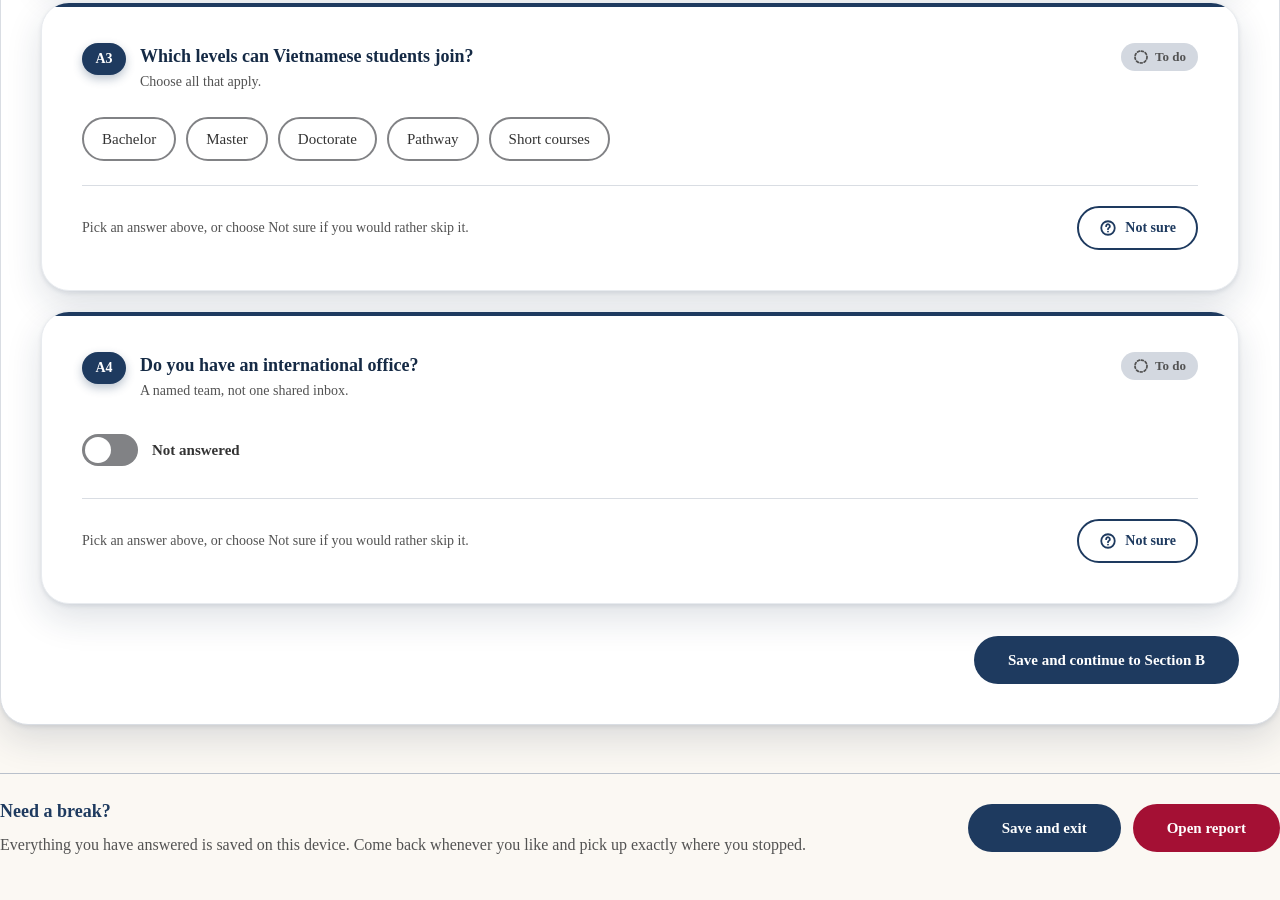
IntakePage saving › Save now writes at once
(page scrolled)
What coordinates should you click on to do the following:
click the switch
I would click on:
 (110, 450)
Its box is [82, 434, 138, 466].
(page scrolled)
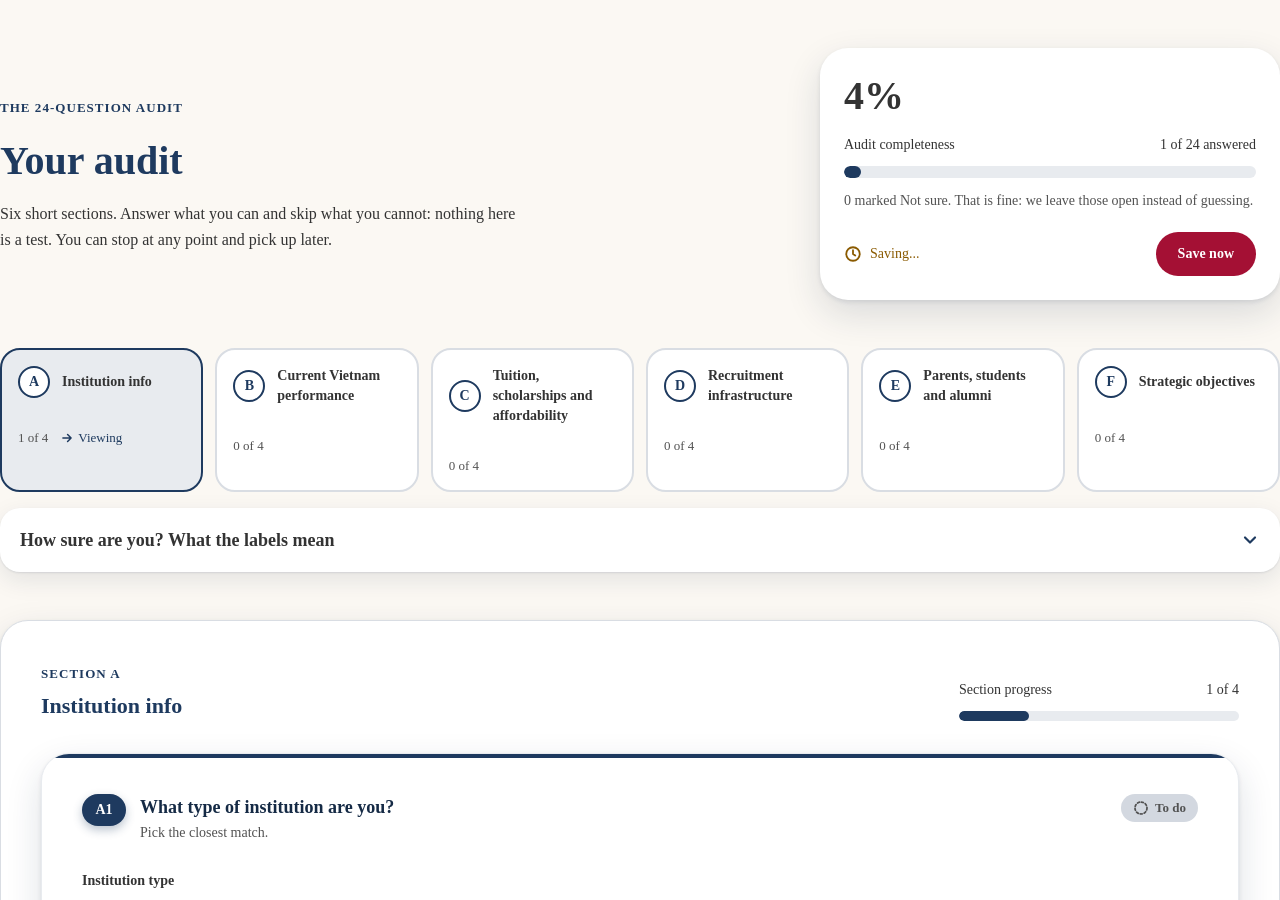
What coordinates should you click on to do the following:
click the button "Save now"
I would click on:
 (1206, 254)
Its box is [1156, 232, 1256, 276].
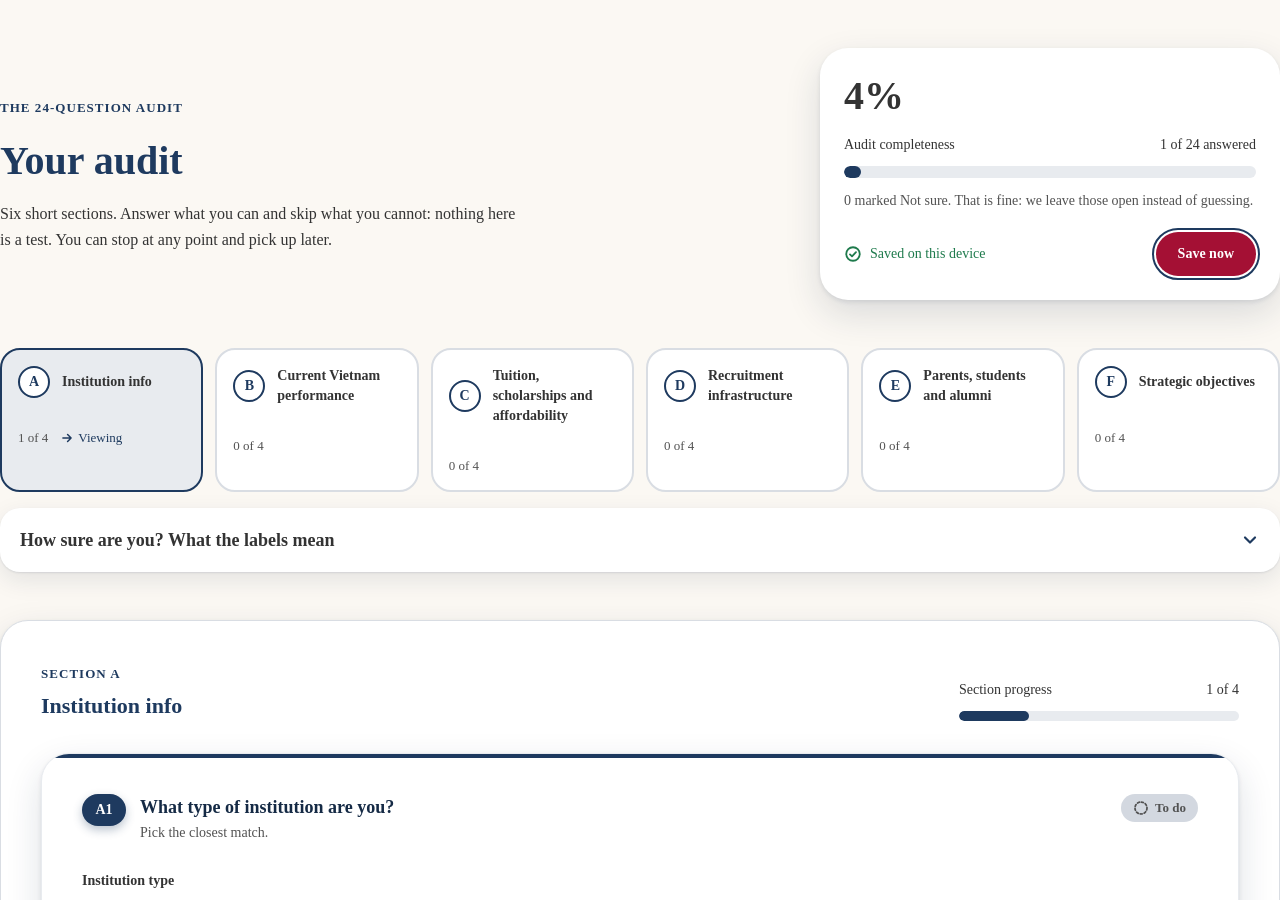
Expected: the text "Saved on this device" is shown, [870, 246, 986, 261]
